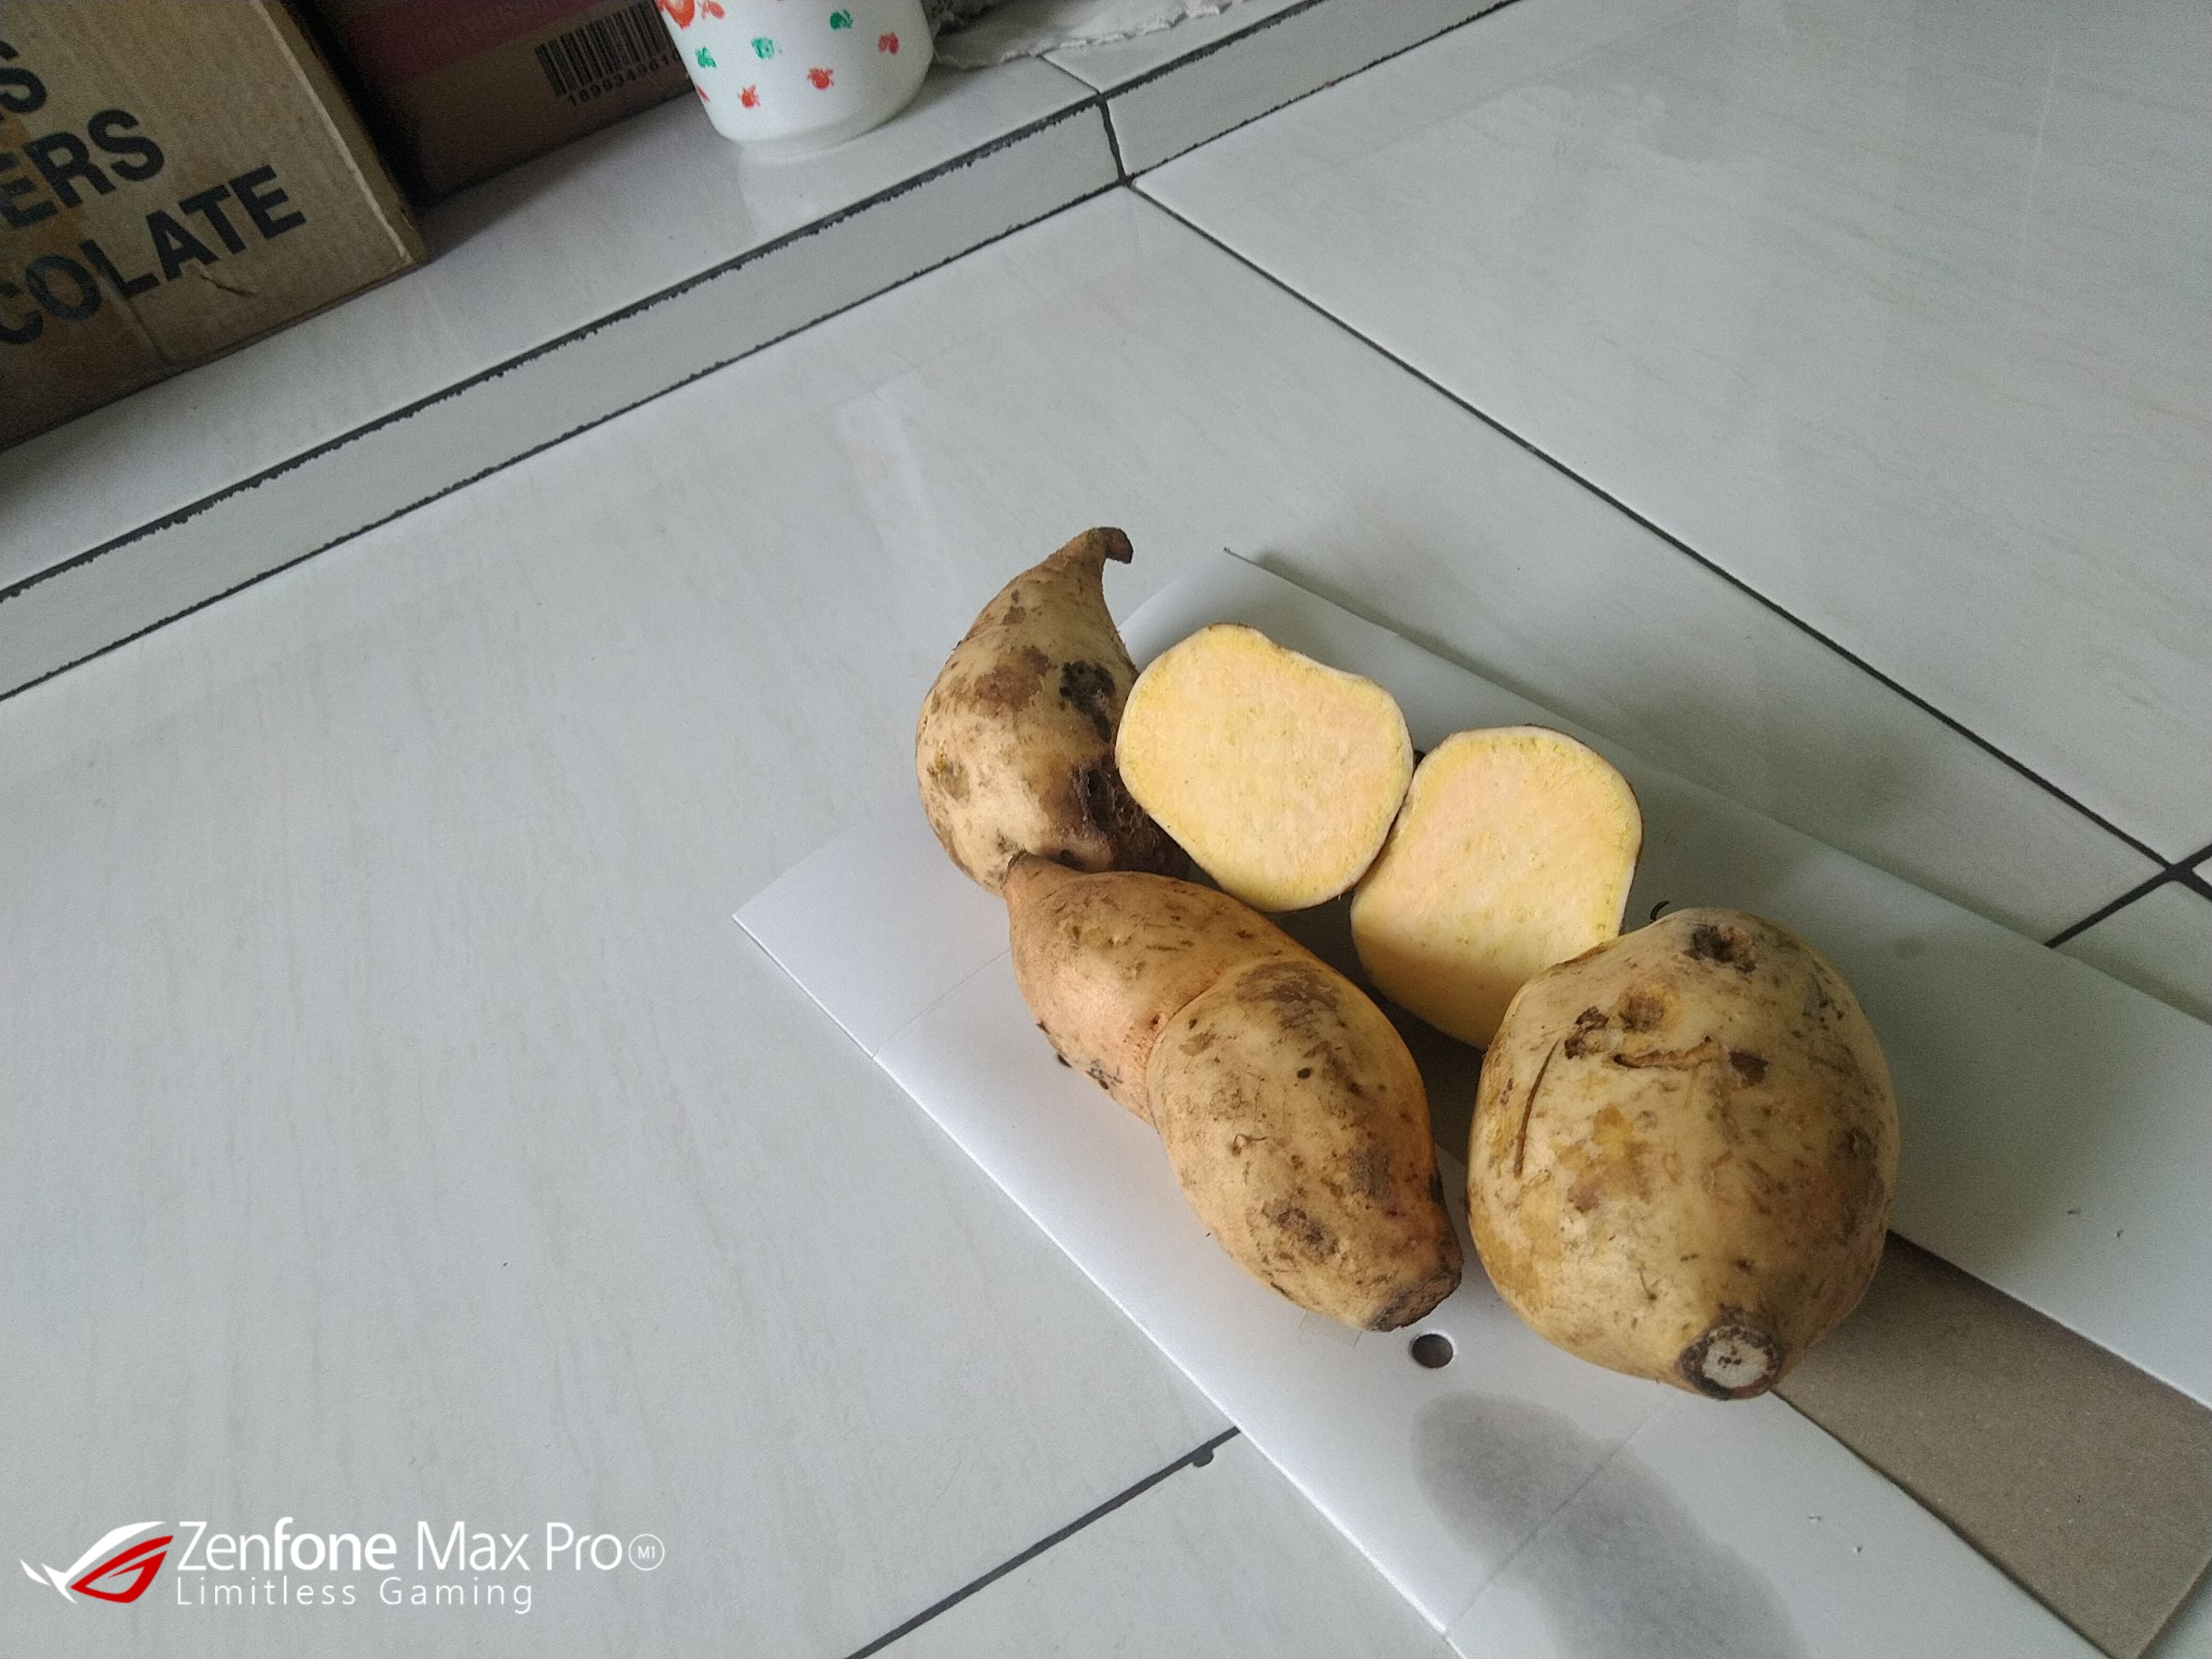ubi kuning: (956, 845, 1993, 1427), (975, 843, 1487, 1351), (1465, 897, 1946, 1403), (1341, 714, 1644, 1058), (899, 518, 1170, 892), (1103, 606, 1416, 917)
